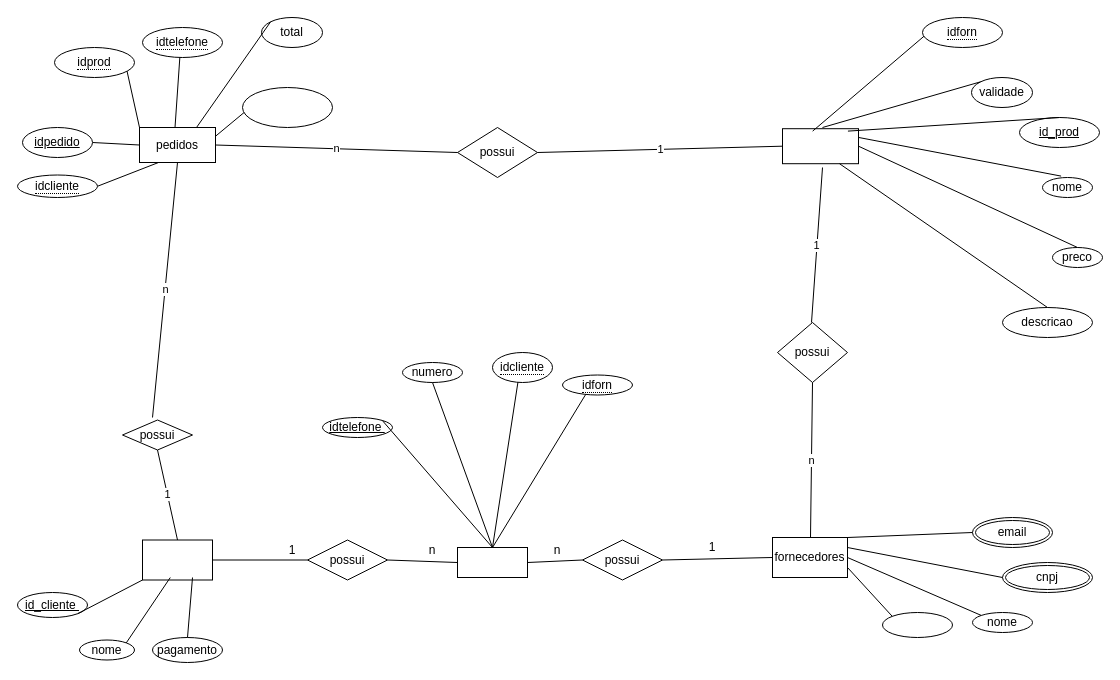
This 1120x680 diagram has some shape labels left out. Here are the shapes that lost their labels. From the top down, the centre of each, then its label:
At (287,107): "datalancamento".
At (820,146): "produtos".
At (177,559): "clientes".
At (492,562): "telefone".
At (917,625): "id_forn".
